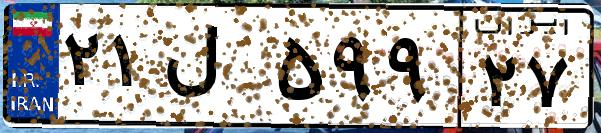1: (110, 28, 158, 98)
2: (57, 26, 110, 100), (475, 38, 525, 113)
5: (270, 28, 330, 110)
7: (525, 38, 570, 115)
9: (385, 28, 445, 110), (330, 28, 385, 110)
ل: (158, 20, 270, 120)
